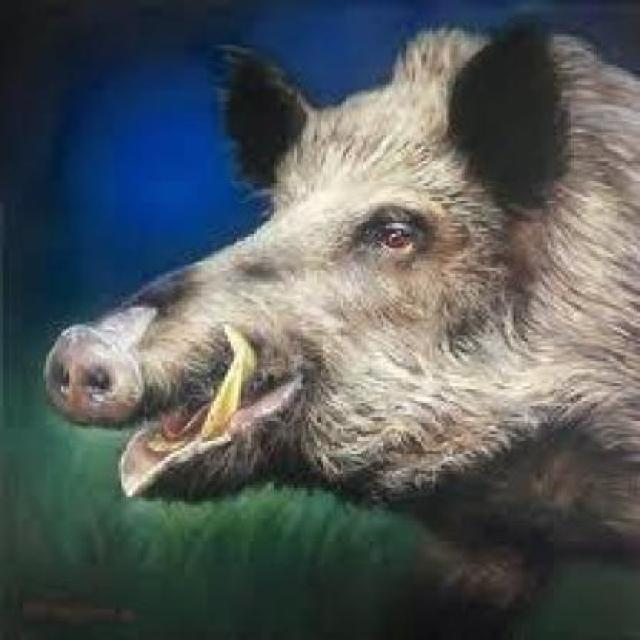wildboar: (34, 19, 640, 615)
